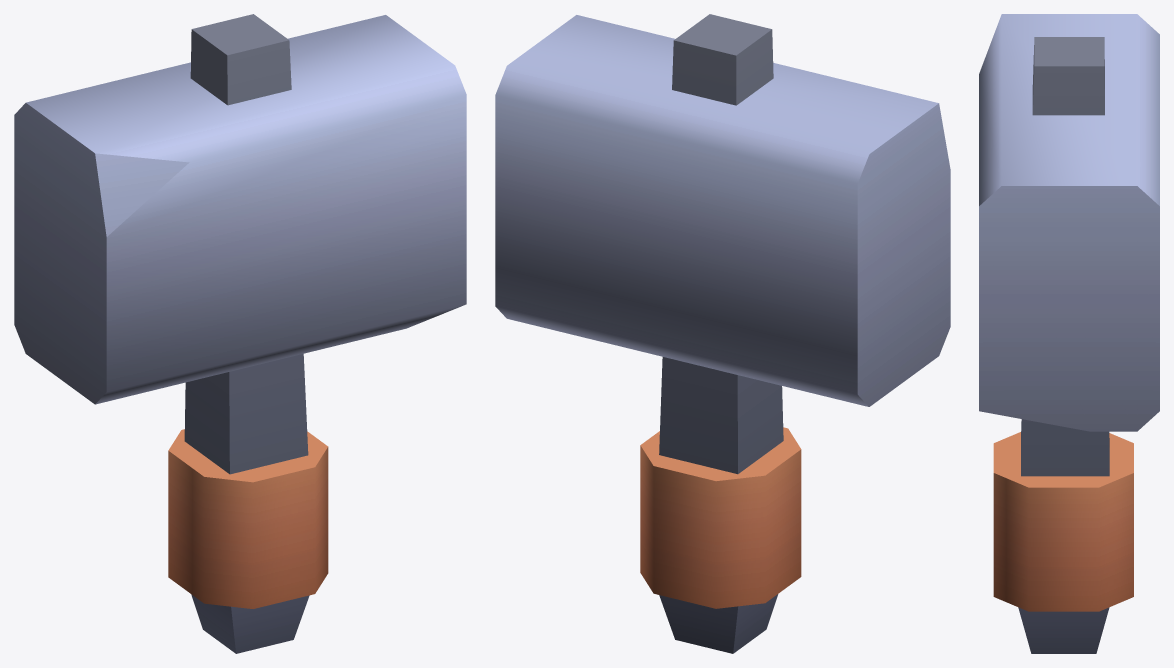
Rendered from tool-hammer-upgraded.glb.
The picture shows the model from 3 angles, left to right: view 1: azimuth 30°, elevation 25°; view 2: azimuth 150°, elevation 25°; view 3: azimuth 270°, elevation 25°; orthographic projection. The views are drawn at different scales.
Parts seen in each view (by area): view 1: tool-hammer-upgraded; view 2: tool-hammer-upgraded; view 3: tool-hammer-upgraded.
Boxes of the visible parts, x1,y1,x2,y2 form: tool-hammer-upgraded: [14, 14, 466, 653]; tool-hammer-upgraded: [495, 14, 950, 653]; tool-hammer-upgraded: [979, 14, 1159, 653].
Bounding box in the file's own units: 0.1161 × 0.1846 × 0.0516.
1 material, 1 textured.
